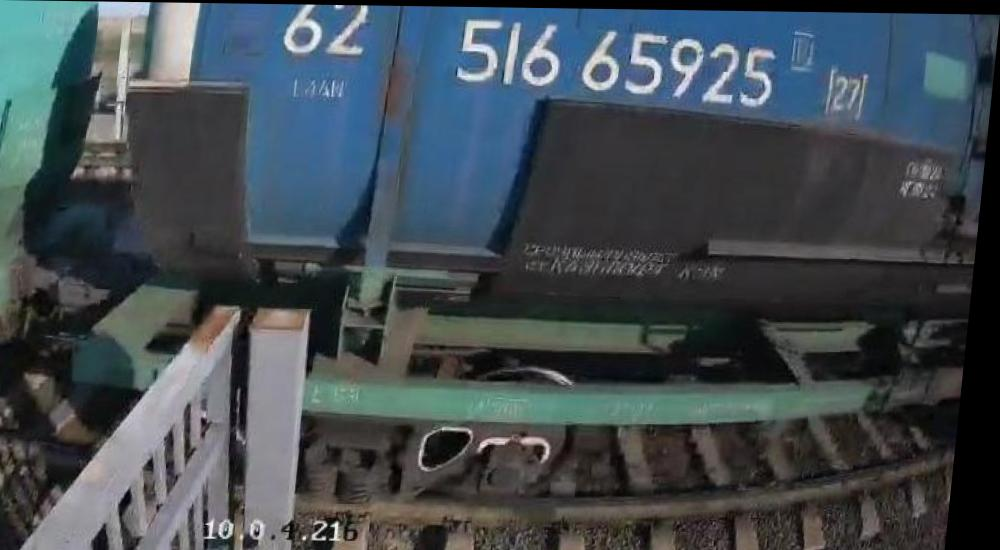Wagon-number: (449, 14, 784, 109)
